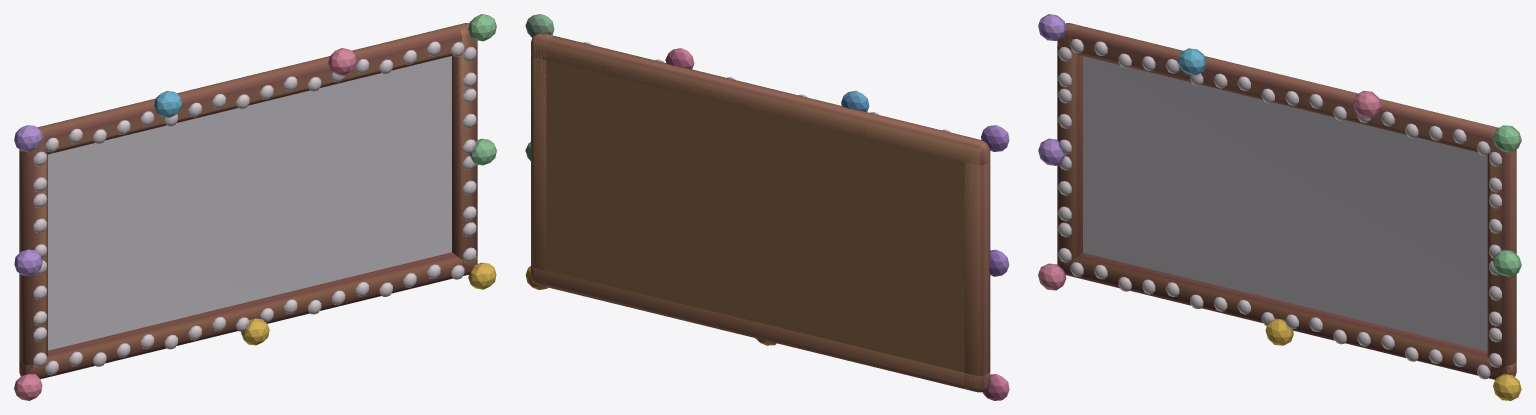
Rendered from board_candy.glb.
3 views of the same model, side by side, from view 1: azimuth 30°, elevation 25°; view 2: azimuth 150°, elevation 25°; view 3: azimuth 330°, elevation 25° (orthographic).
Visible parts, largest first — view 1: board_candy_menu, board_candy; view 2: board_candy; view 3: board_candy_menu, board_candy.
Part boxes in pixels (left/top/right/bottom): board_candy_menu: left=48, top=56, right=451, bottom=350; board_candy: left=14, top=14, right=496, bottom=400; board_candy: left=525, top=14, right=1009, bottom=400; board_candy_menu: left=1083, top=56, right=1487, bottom=351; board_candy: left=1038, top=14, right=1521, bottom=400.
Bounding box in the file's own units: 2.75 × 1.5 × 0.182.
